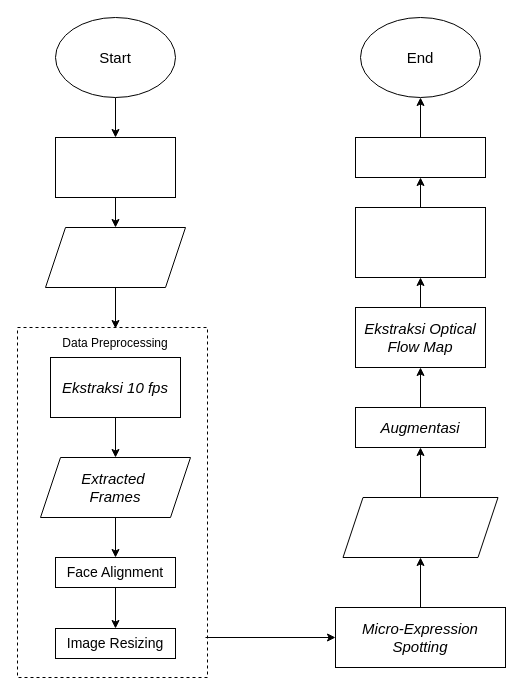
This 523x695 diagram has some shape labels left out. The box of each missing label's shape, as (x1, y1, x2, y2) in pixels:
Data Collection: (54, 136, 176, 198)
Evaluasi Model: (354, 136, 486, 178)
Onset dan Apex Frames: (342, 496, 498, 558)
Training Model dengan 3 Skenario: (354, 206, 486, 278)
Video CASME II: (44, 226, 186, 288)
